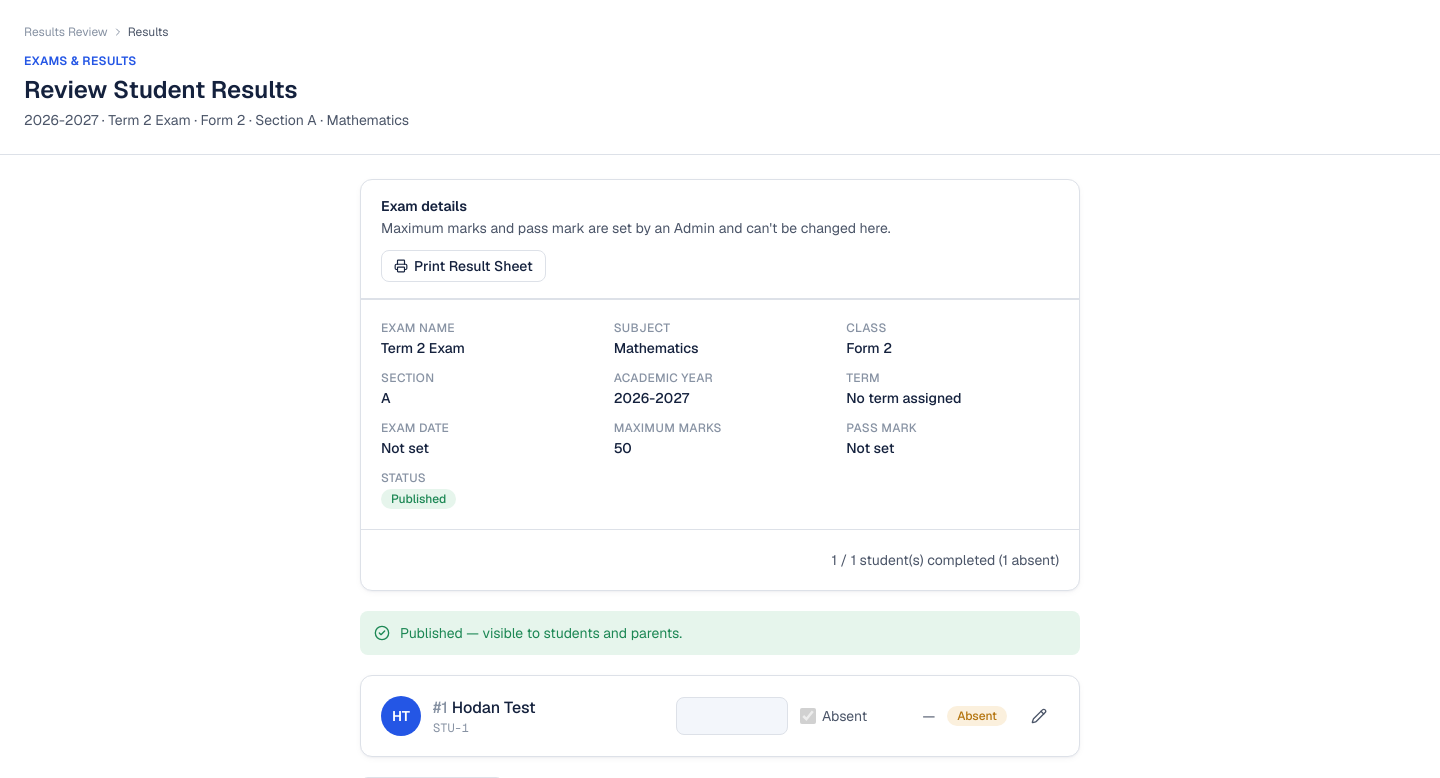
Scenario: Results page — admin Edit Result › an existing Incomplete result opens as Incomplete, with no mark shown
Check: the text "Term 2 Exam" is shown, box x1=381 y1=339 x2=465 y2=357
Click the button named "Edit result for Hodan Test".
click(1039, 716)  # box x1=1019 y1=700 x2=1059 y2=732
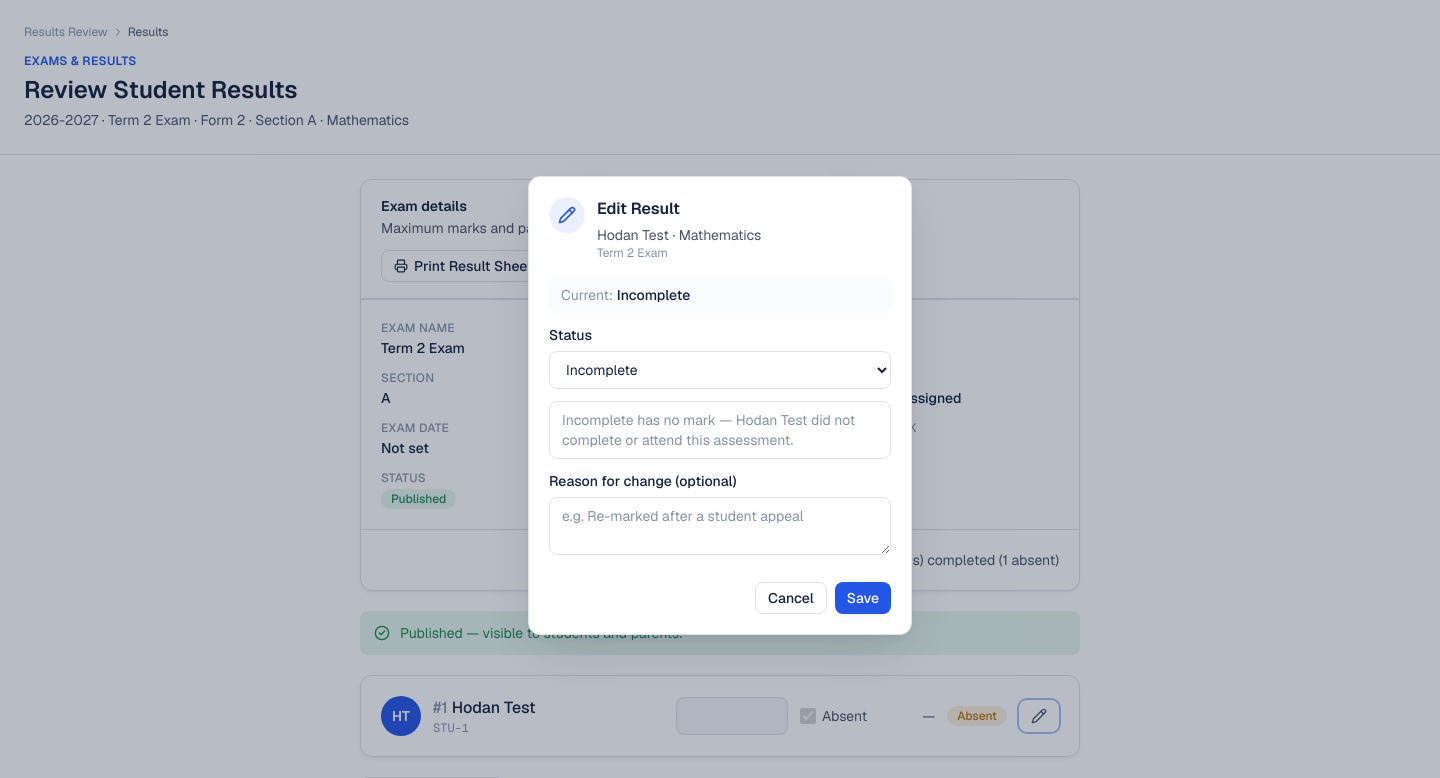
Check: the dropdown labelled "Status" shows "Incomplete", box x1=549 y1=350 x2=891 y2=388
Check: the text "Incomplete" is shown, box x1=617 y1=286 x2=690 y2=304
